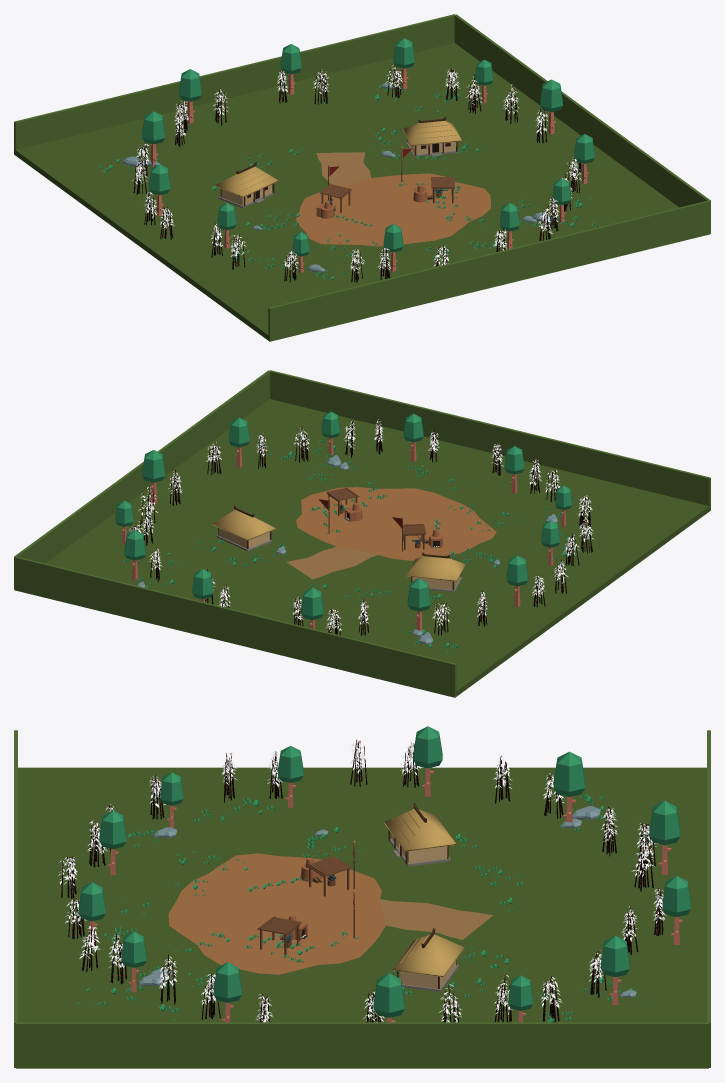
File: KinhThanhRenThep_Environment.glb
3 renders of one model, top to bottom at view 1: azimuth 30°, elevation 25°; view 2: azimuth 150°, elevation 25°; view 3: azimuth 270°, elevation 25°, orthographic. The views are drawn at different scales.
Visible parts, largest first — view 1: DatLang, _MeshInstance3D_308, _MeshInstance3D_302, SanDatNung, _MeshInstance3D_305, DuongDatUon, Roof, Roof2, tree_default_dark10, tree_default_dark2, tree_default_dark11, tree_default_dark9 (+6 smaller); view 2: DatLang, _MeshInstance3D_302, _MeshInstance3D_308, SanDatNung, _MeshInstance3D_305, DuongDatUon, Roof2, Roof, tree_default_dark10, tree_default_dark2, tree_default_dark9, tree_default_dark13 (+7 smaller); view 3: DatLang, _MeshInstance3D_305, SanDatNung, DuongDatUon, Roof2, Roof, tree_default_dark10, tree_default_dark11, _MeshInstance3D_302, _MeshInstance3D_308, tree_default_dark9, tree_default_dark2 (+11 smaller).
Boxes of the visible parts, x1,y1,x2,y2 form: DatLang: [14, 43, 678, 340]; _MeshInstance3D_308: [268, 200, 710, 341]; _MeshInstance3D_302: [14, 14, 455, 154]; SanDatNung: [296, 173, 490, 246]; _MeshInstance3D_305: [454, 14, 710, 233]; DuongDatUon: [316, 152, 371, 186]; Roof: [403, 120, 461, 145]; Roof2: [214, 166, 278, 197]; tree_default_dark10: [142, 111, 165, 166]; tree_default_dark2: [540, 79, 562, 134]; tree_default_dark11: [179, 69, 201, 123]; tree_default_dark9: [149, 164, 170, 215]; DatLang: [46, 399, 710, 696]; _MeshInstance3D_302: [14, 556, 456, 697]; _MeshInstance3D_308: [270, 370, 710, 511]; SanDatNung: [296, 487, 496, 560]; _MeshInstance3D_305: [14, 370, 270, 589]; DuongDatUon: [287, 546, 377, 579]; Roof2: [406, 556, 465, 581]; Roof: [212, 509, 275, 540]; tree_default_dark10: [407, 578, 430, 630]; tree_default_dark2: [142, 450, 165, 504]; tree_default_dark9: [506, 555, 527, 607]; tree_default_dark13: [124, 530, 145, 581]; DatLang: [18, 767, 706, 1022]; _MeshInstance3D_305: [16, 1022, 708, 1068]; SanDatNung: [168, 853, 385, 974]; DuongDatUon: [379, 899, 492, 939]; Roof2: [384, 809, 455, 851]; Roof: [392, 934, 464, 977]; tree_default_dark10: [553, 751, 585, 822]; tree_default_dark11: [649, 801, 680, 874]; _MeshInstance3D_302: [707, 730, 710, 1067]; _MeshInstance3D_308: [14, 730, 17, 1067]; tree_default_dark9: [413, 726, 442, 796]; tree_default_dark2: [373, 973, 404, 1022].
Size of the model in its own units: 84.25 by 10.95 by 84.5.
